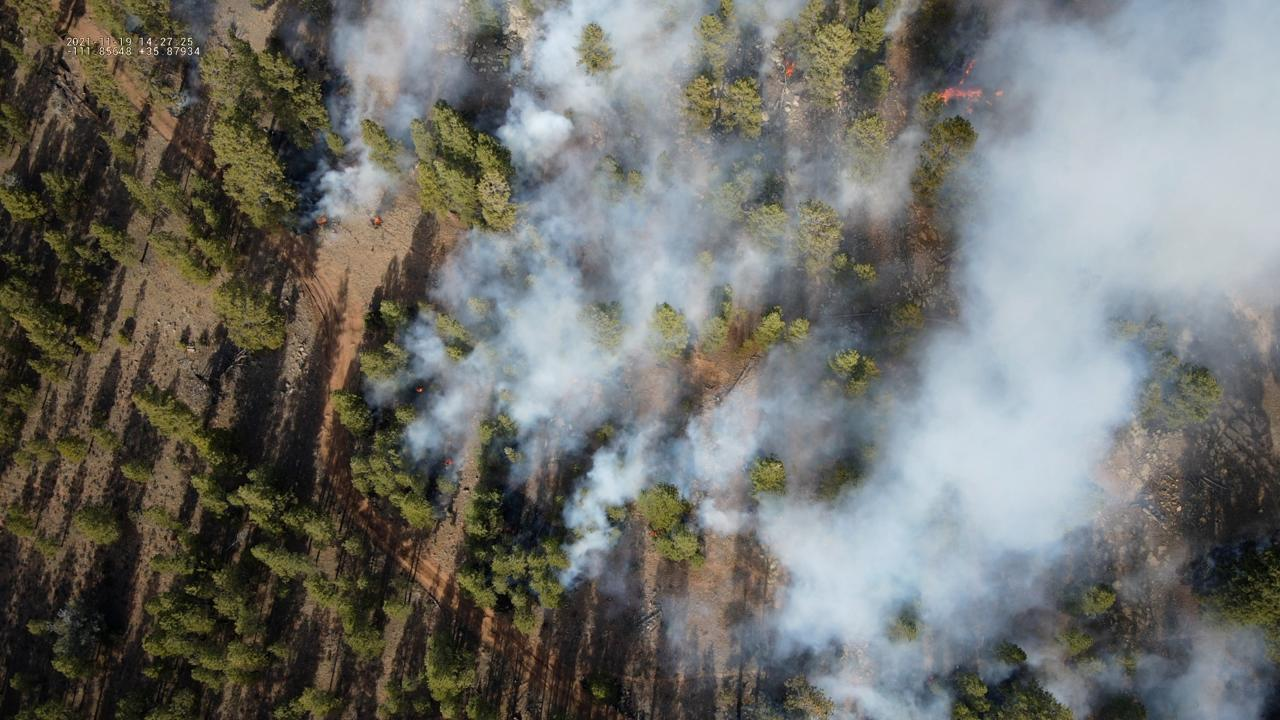fire: (940, 87, 983, 104), (964, 58, 978, 75), (785, 58, 796, 78), (961, 104, 975, 115), (316, 216, 328, 225), (373, 216, 381, 226), (445, 458, 453, 466), (416, 385, 424, 393), (649, 530, 658, 537), (995, 90, 1003, 97), (959, 79, 967, 85)
smoke: (280, 0, 1280, 720), (167, 0, 218, 116), (123, 14, 146, 35)
